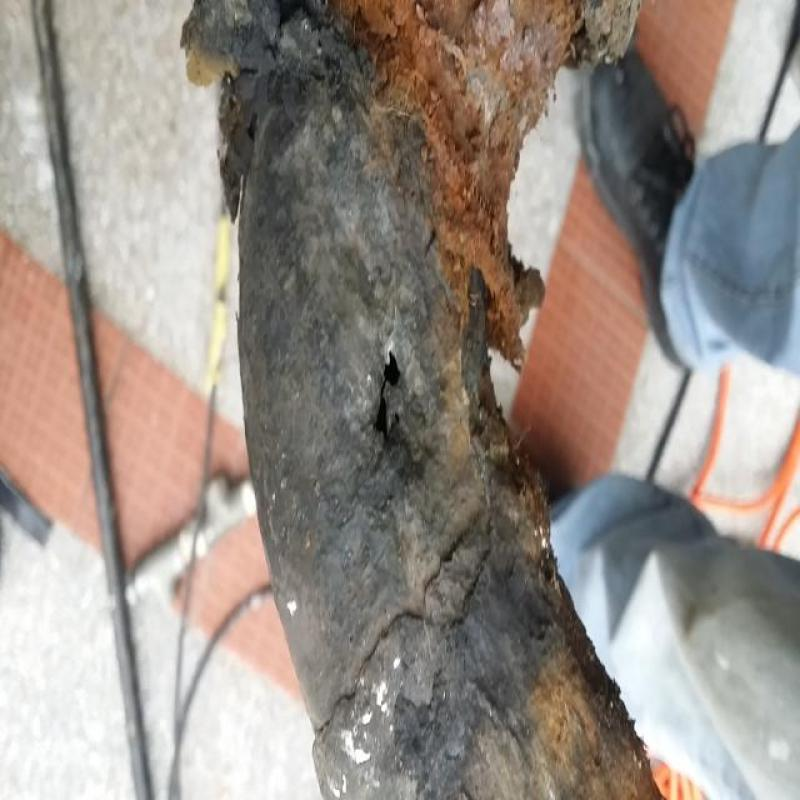corrosion: (215, 0, 577, 728)
